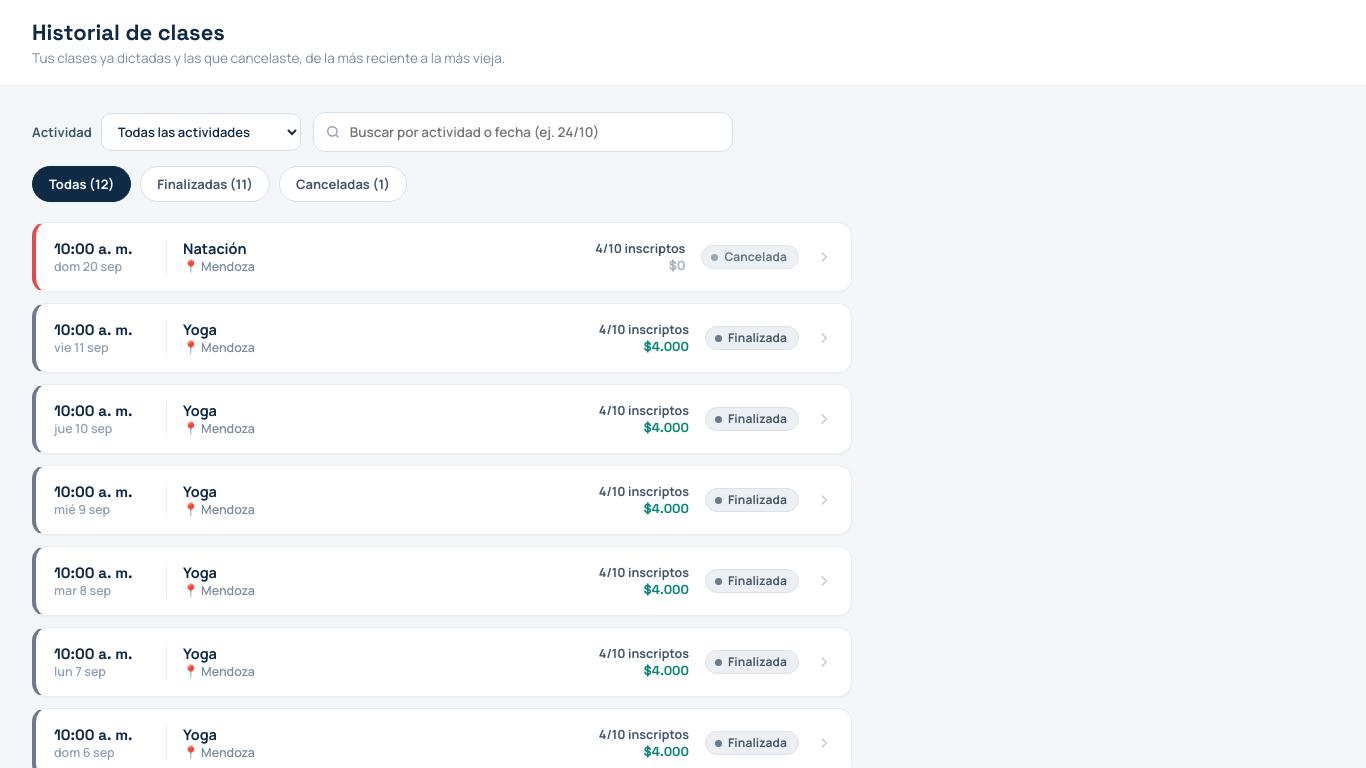
Scenario: historial del instructor › la lupa busca por fecha
Expected: the button "Todas (12)" is shown, [32, 166, 131, 202]
In the search field named "Buscar clases": [523, 132] box [313, 112, 733, 152], type "3/9/2026"
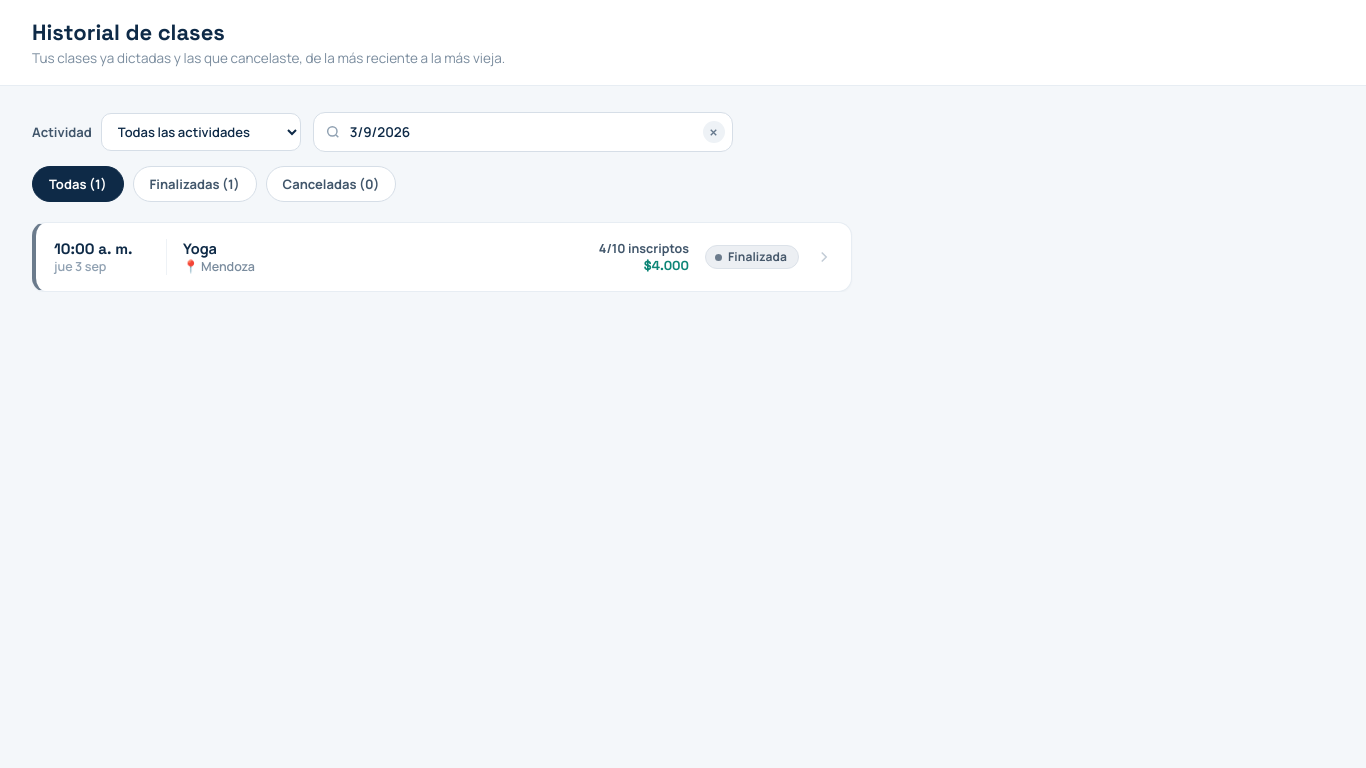
Result: the number of buttons titled "Ver el detalle de la clase" is 1 at [32, 222, 852, 292]
Result: the button "Finalizadas (1)" is shown at [132, 166, 256, 202]
